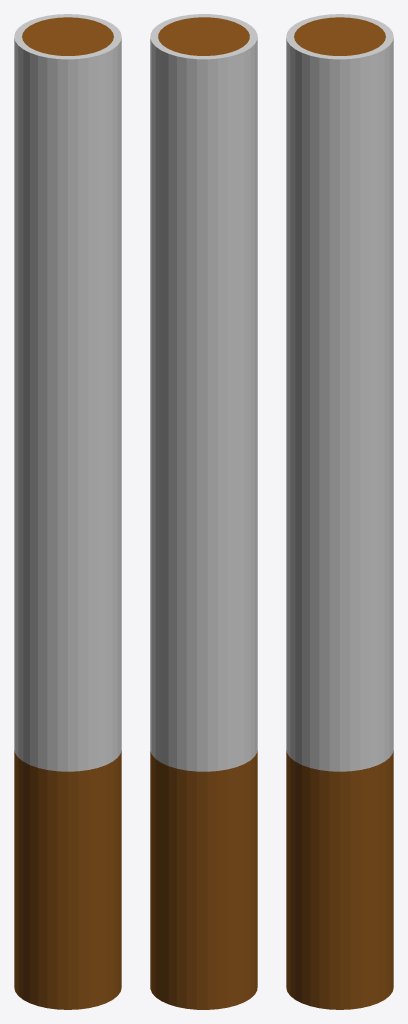
File: Cigarette.fbx
3 views of the same model, side by side, from view 1: azimuth 90°, elevation 25°; view 2: azimuth 150°, elevation 25°; view 3: azimuth 270°, elevation 25° (orthographic).
Visible parts, largest first — view 1: Cigarette; view 2: Cigarette; view 3: Cigarette.
Part boxes in pixels (<box>): Cigarette: <box>14,14,121,1009</box>; Cigarette: <box>150,14,257,1009</box>; Cigarette: <box>286,14,393,1009</box>.
Bounding box in the file's own units: 49.68 × 484 × 49.68.
